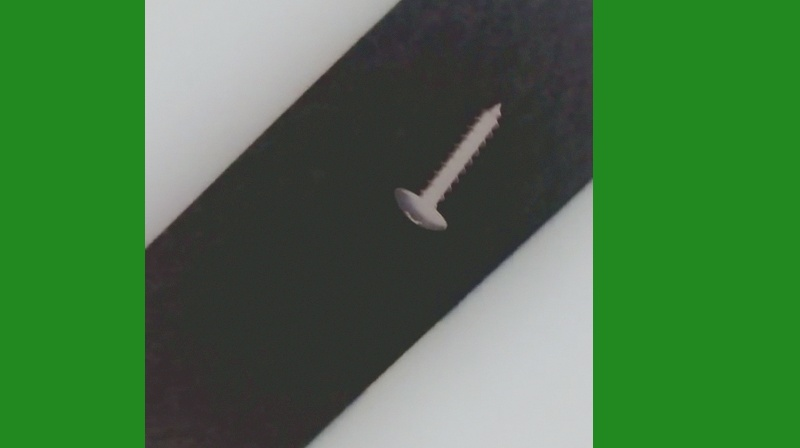S003: (390, 96, 503, 234)
